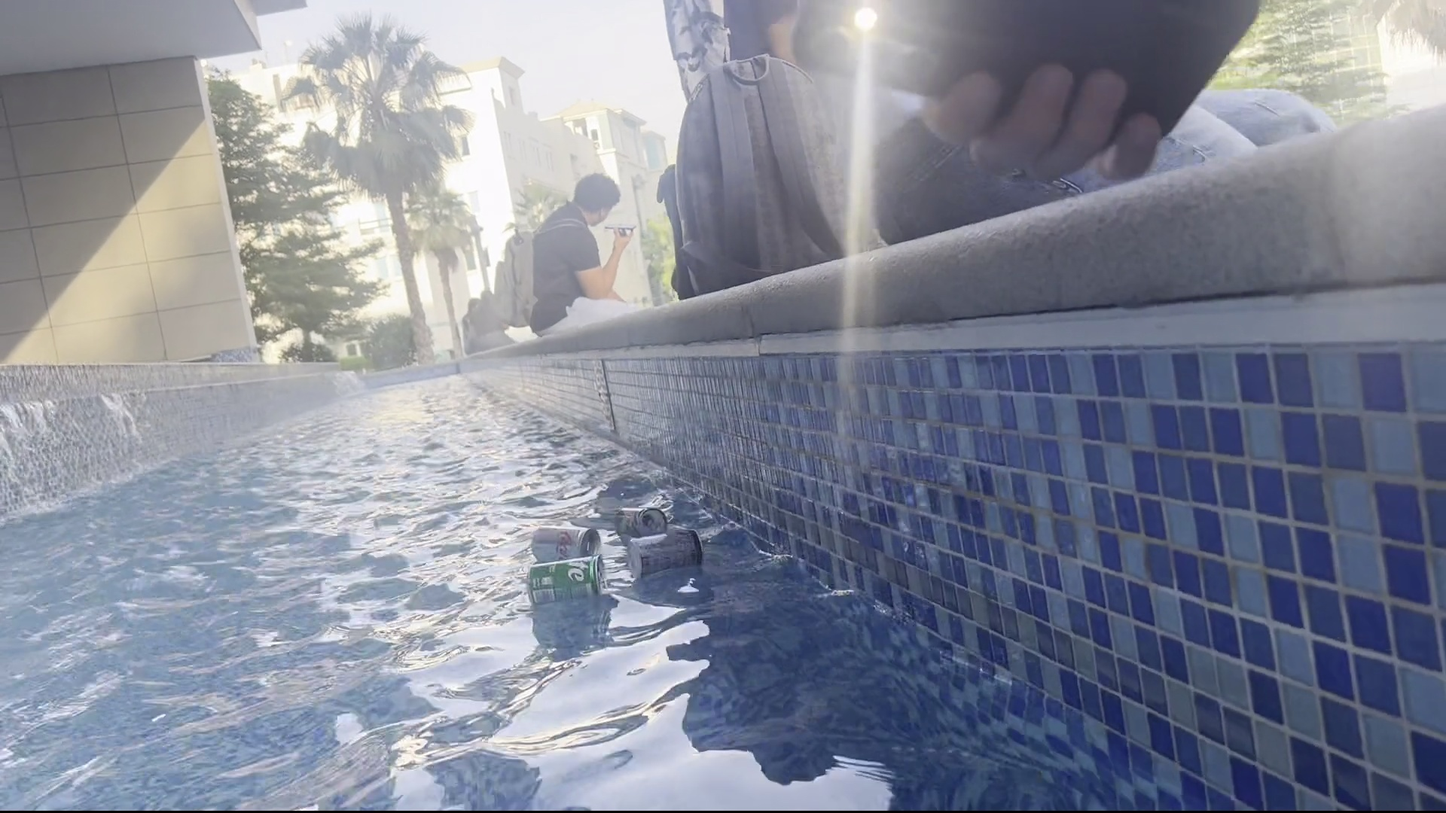debris: (521, 549, 610, 608), (620, 522, 709, 578), (521, 519, 603, 562), (606, 498, 673, 540)
